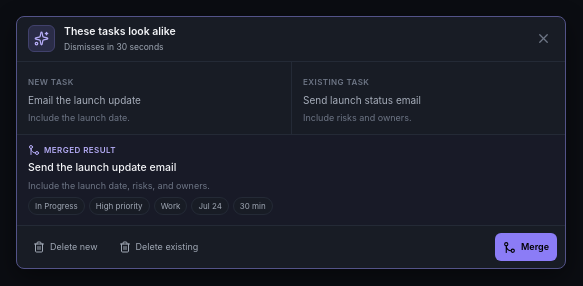
dedupe suggestion toast › advances to the next durable suggestion after resolving the first
Click the button with aria-label "Merge tasks". click: {"x": 526, "y": 247}
box: [495,233,557,261]
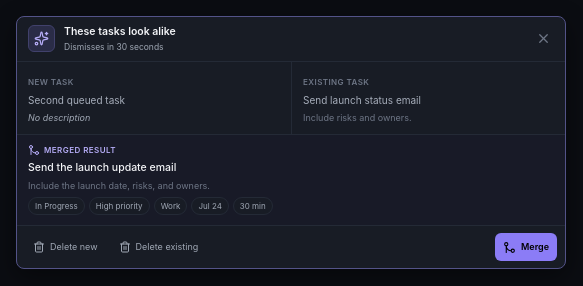
Expected: the text "Second queued task" is shown, [28,94,125,106]
